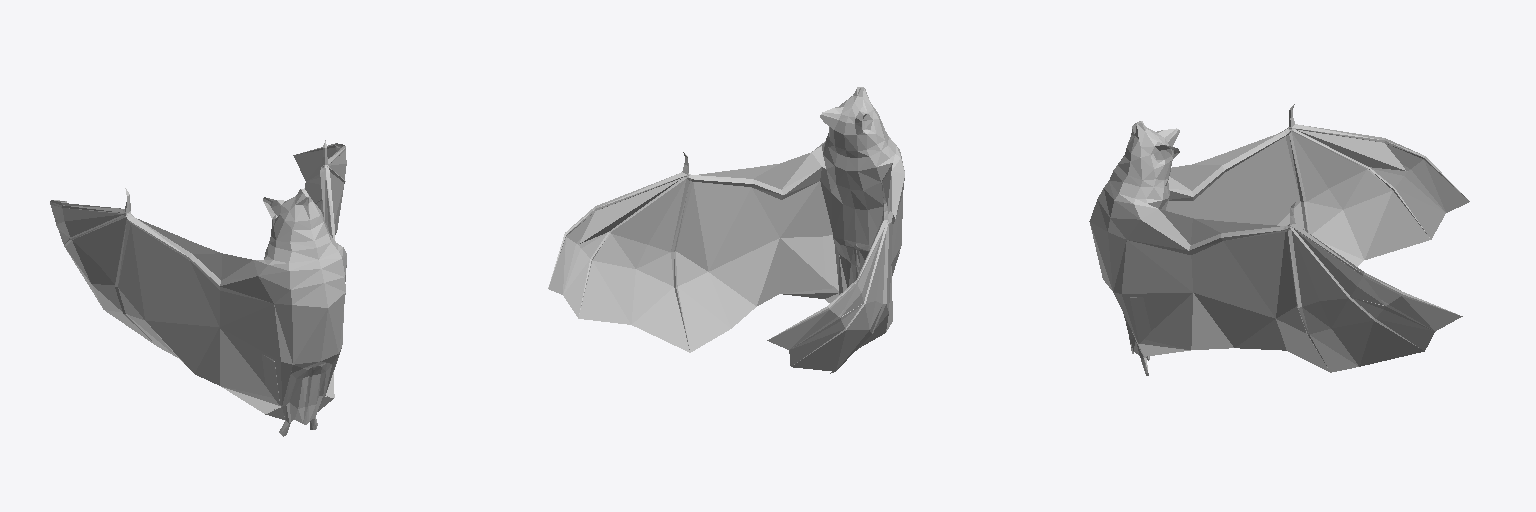
The model's file is bat_rotation.obj.
3 views of the same model, side by side, from view 1: azimuth 30°, elevation 25°; view 2: azimuth 150°, elevation 25°; view 3: azimuth 270°, elevation 25° (orthographic).
Size of the model in its own units: 0.3455 by 0.2858 by 0.4.